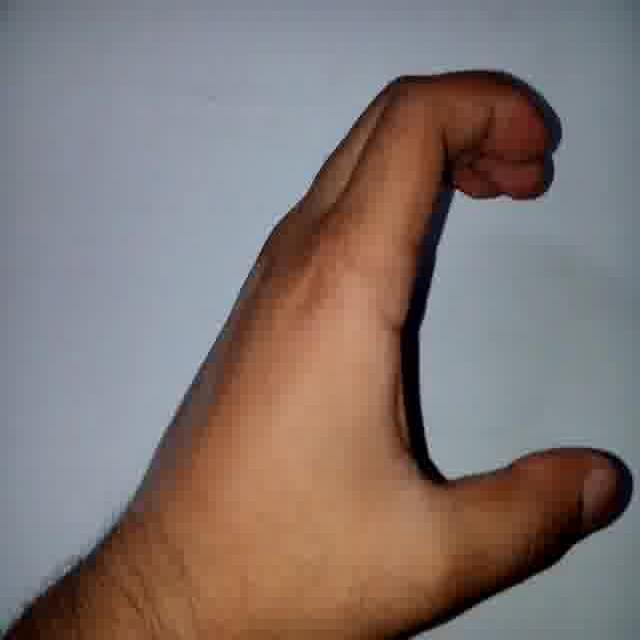Alphabet-C: (139, 51, 637, 606)
